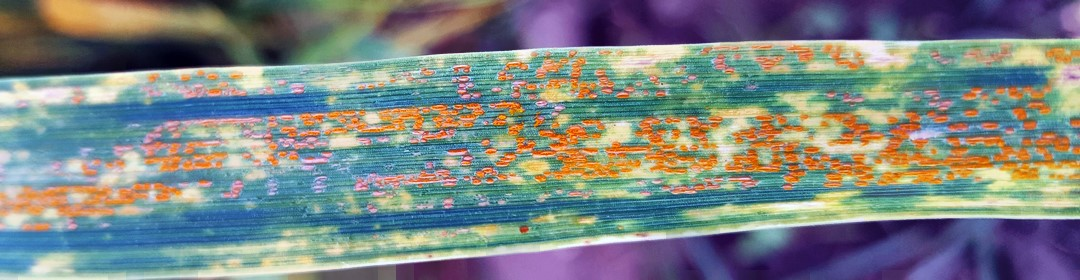Leaf Rust: (21, 30, 1077, 240)
